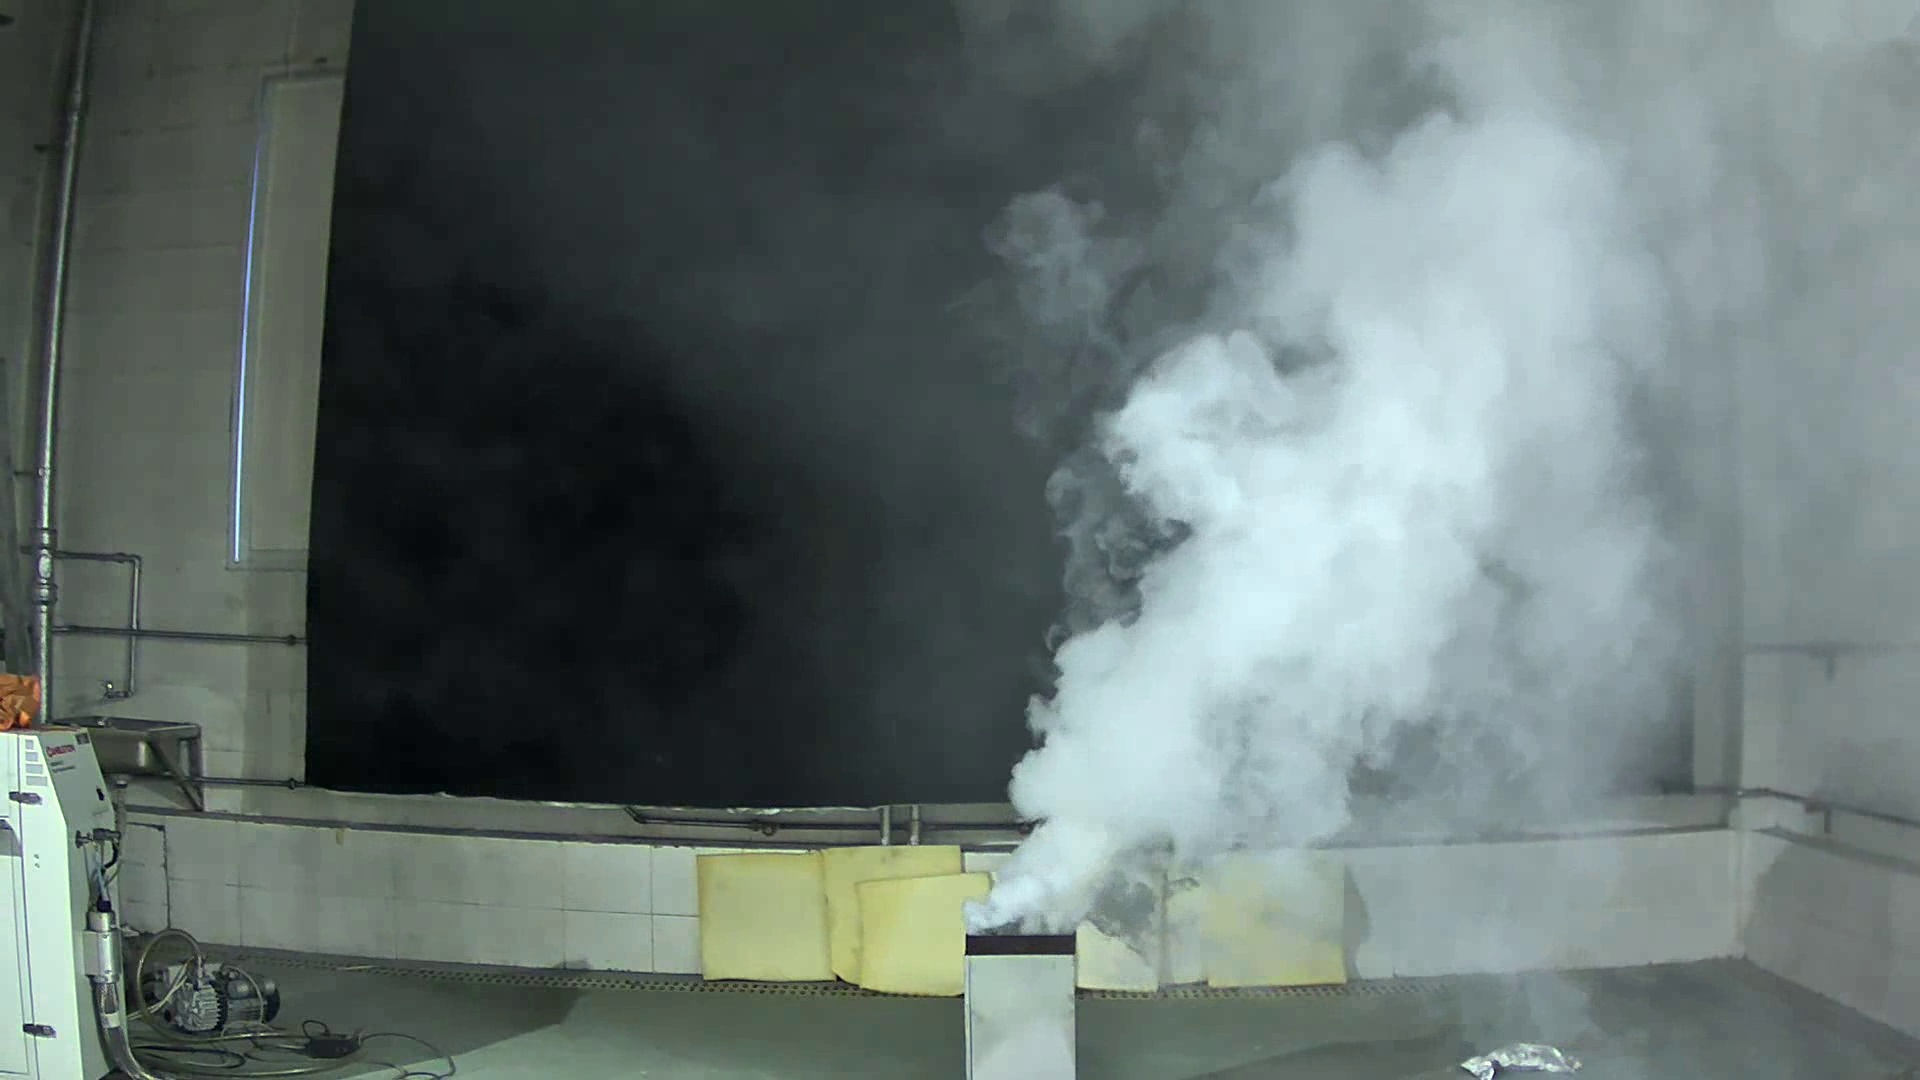smoke: (967, 88, 1696, 930)
